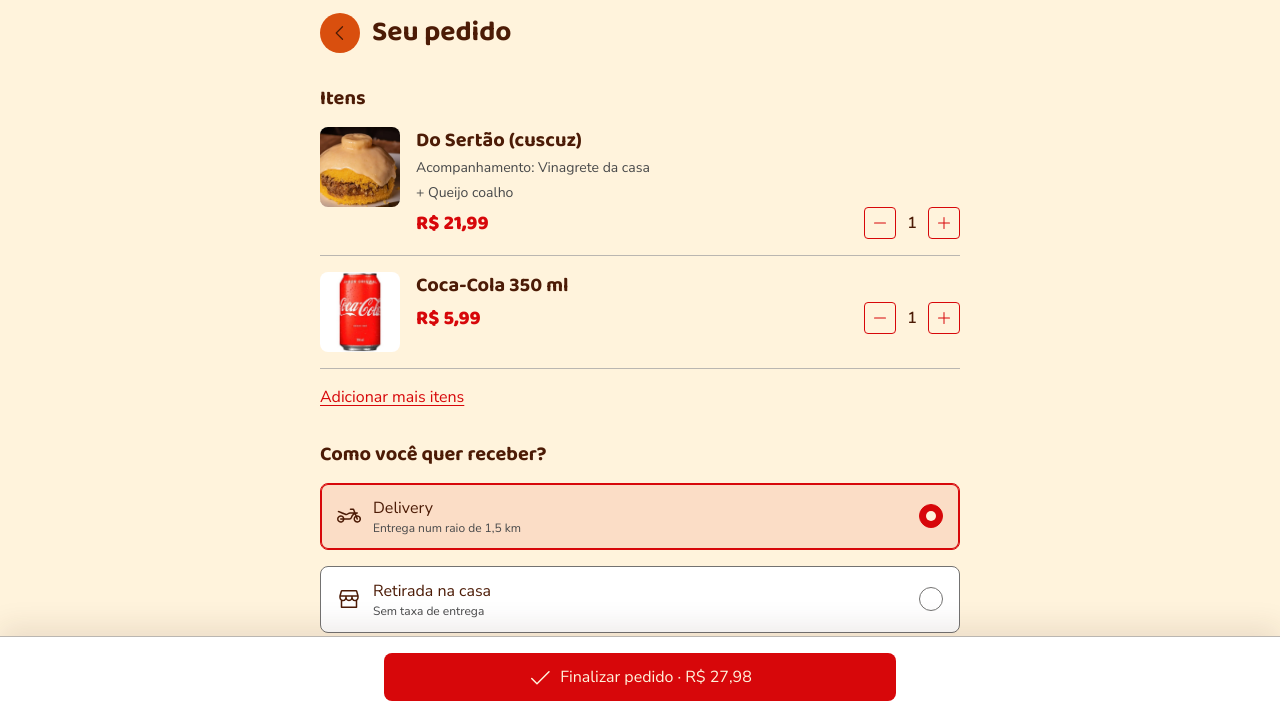
it: fluxo Seu pedido → Falta só um passo › não avança com campos em branco e mostra os erros
Click the button "Finalizar pedido · R$ 27,98": [640, 677] box [384, 653, 896, 701]
(page scrolled)
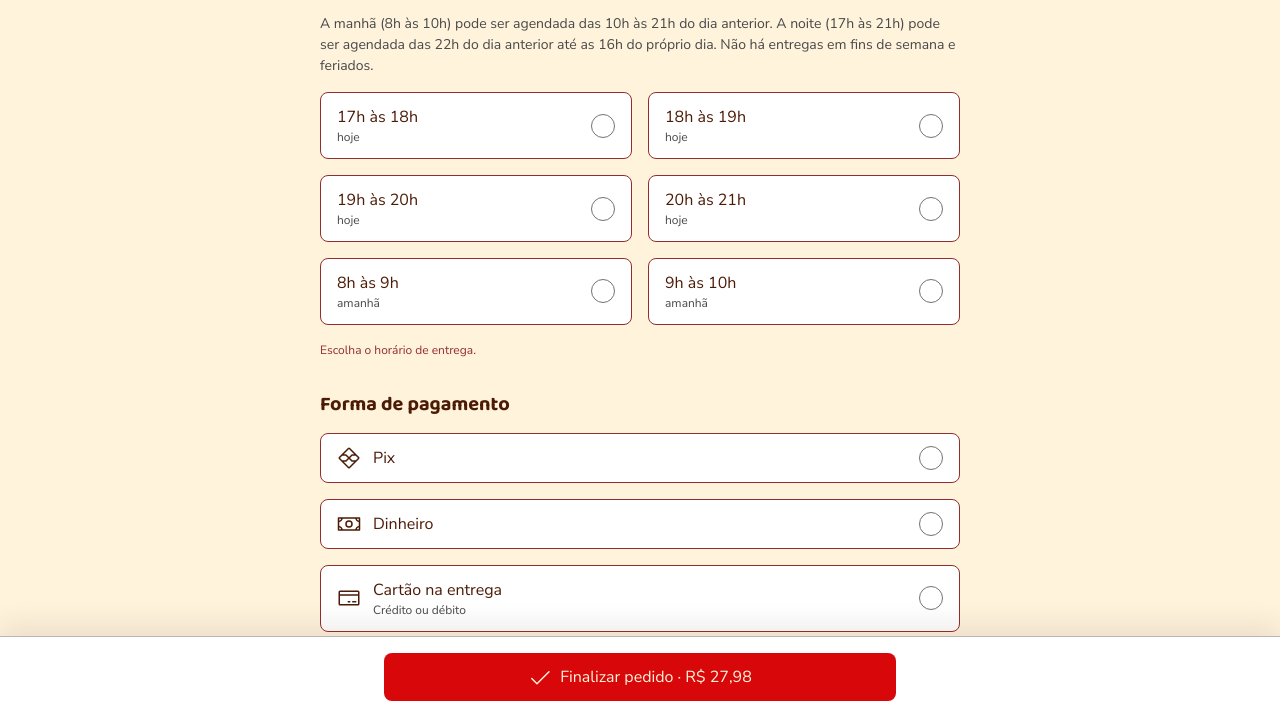
Expected: the text "Escolha a forma de pagamento." is shown, [320, 648, 488, 664]
Expected: the text "Escolha o horário de entrega." is shown, [320, 342, 476, 358]
